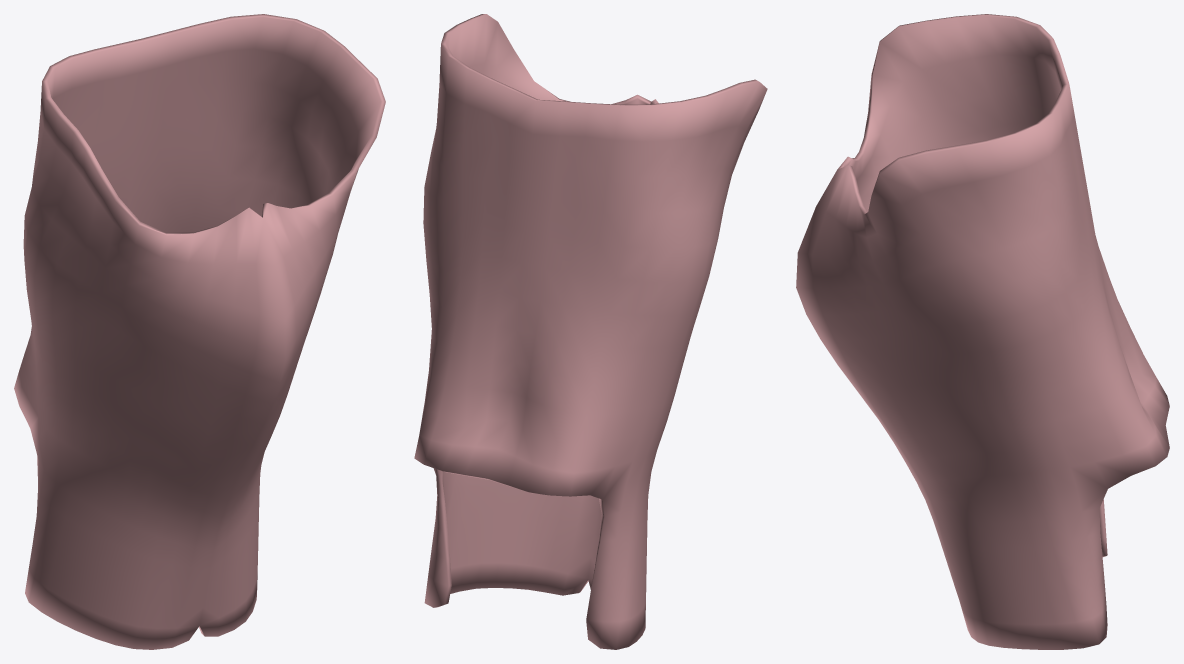
3 renders of one model, left to right at view 1: azimuth 30°, elevation 25°; view 2: azimuth 150°, elevation 25°; view 3: azimuth 270°, elevation 25°, orthographic. The views are drawn at different scales.
Visible parts, largest first — view 1: ZA_0f5087d08e1b7c6e; view 2: ZA_0f5087d08e1b7c6e; view 3: ZA_0f5087d08e1b7c6e.
Part boxes in pixels (x1,y1,x2,y2): ZA_0f5087d08e1b7c6e: (14,14,385,649); ZA_0f5087d08e1b7c6e: (414,14,767,649); ZA_0f5087d08e1b7c6e: (796,14,1169,649).
Size of the model in its own units: 0.0288 by 0.054 by 0.0336.
